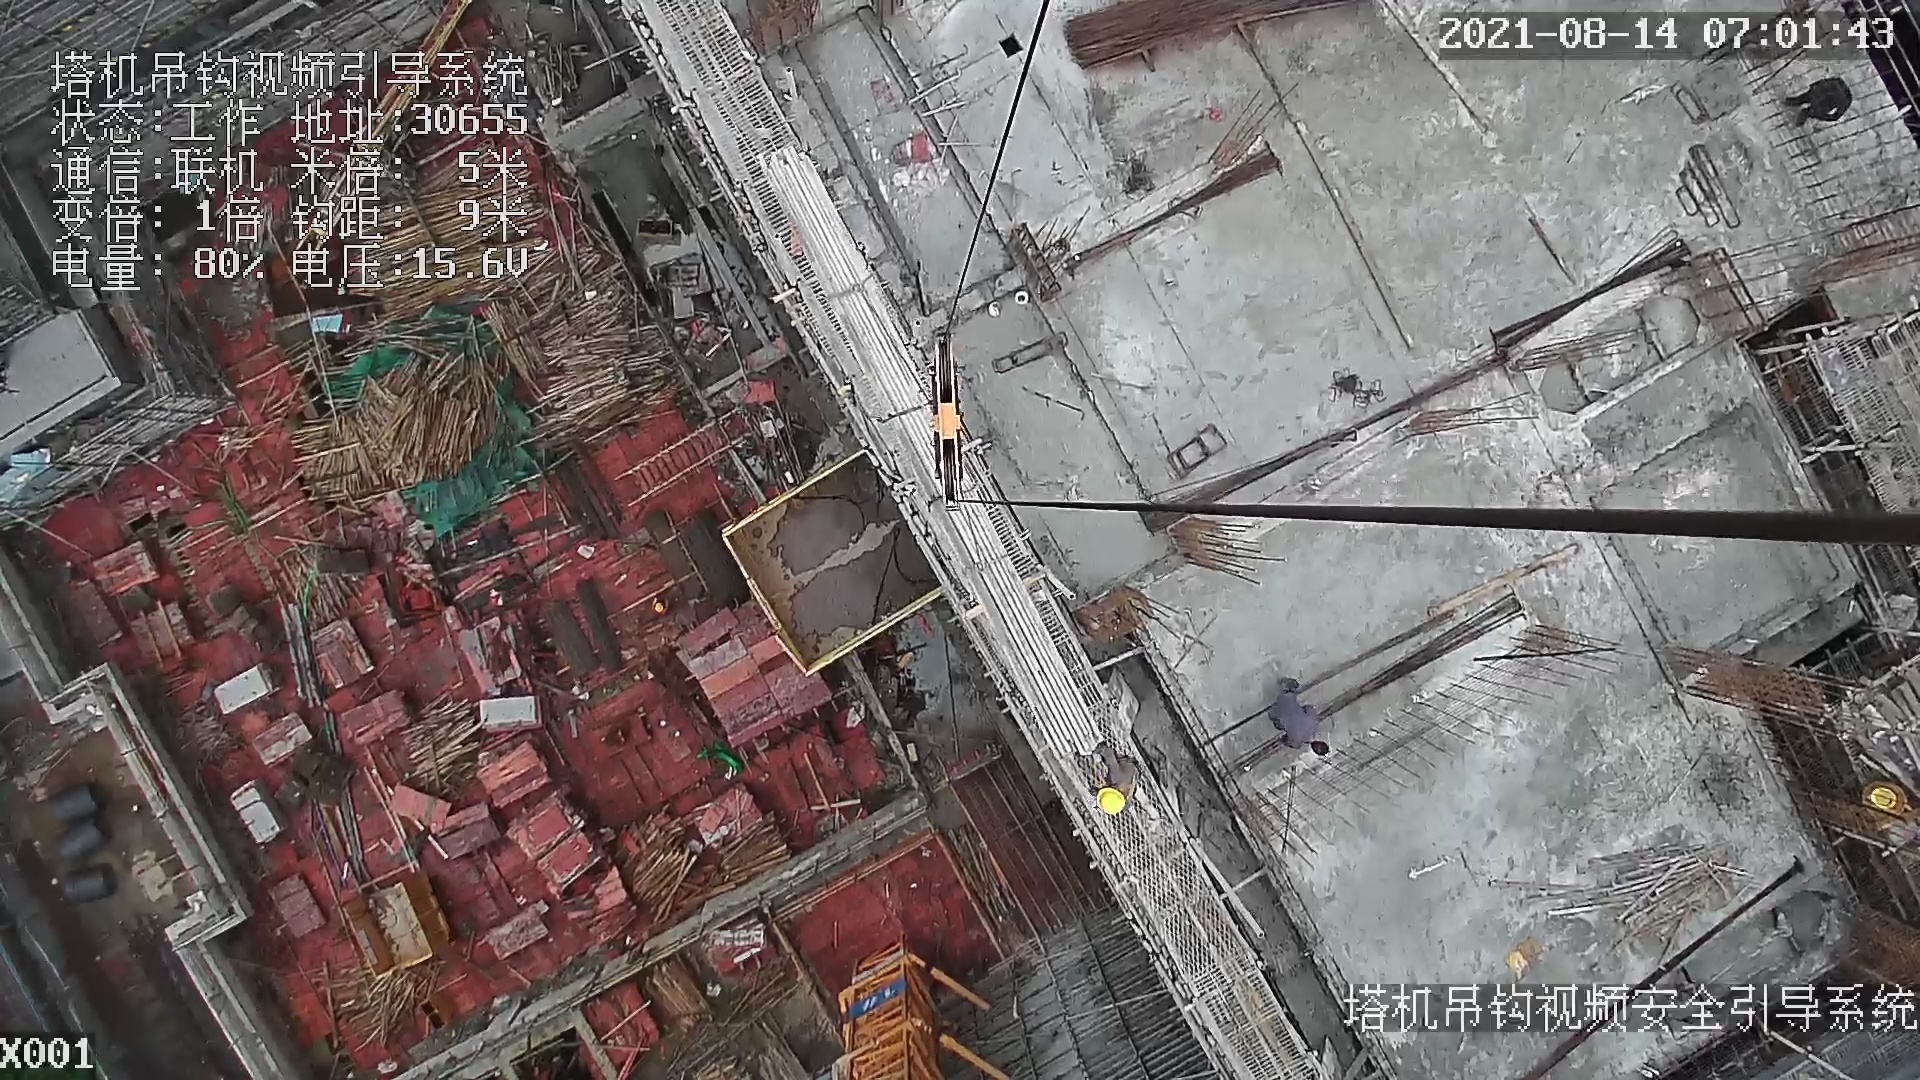helmet: (1098, 779, 1125, 817)
hook: (924, 326, 974, 506)
person: (1777, 64, 1861, 142), (1263, 674, 1336, 759), (1087, 739, 1140, 818)
